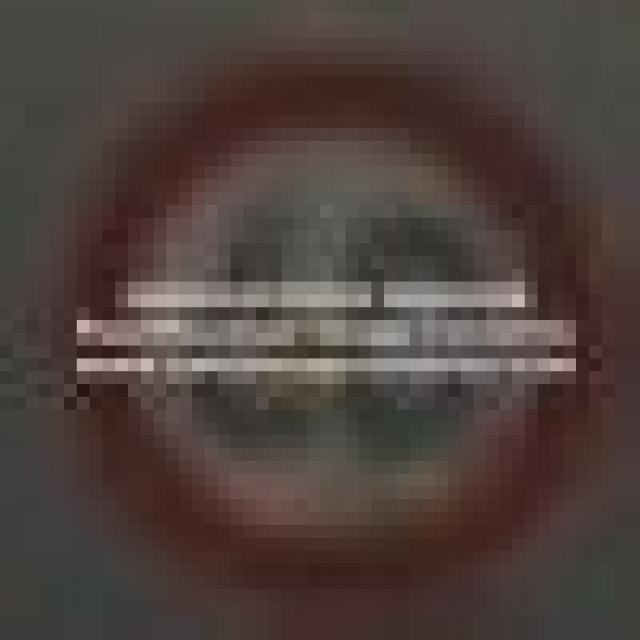SPEED_LIMIT_60: (64, 77, 576, 563)
